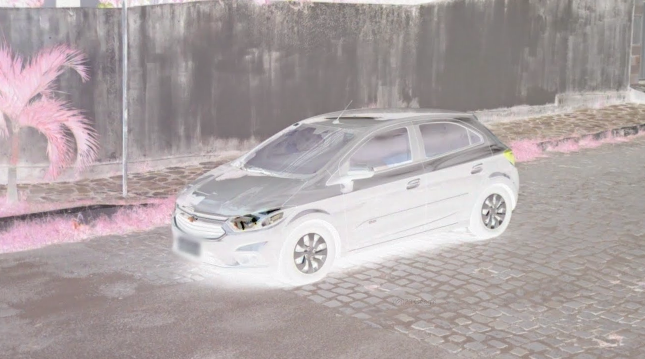car: (166, 97, 527, 289)
